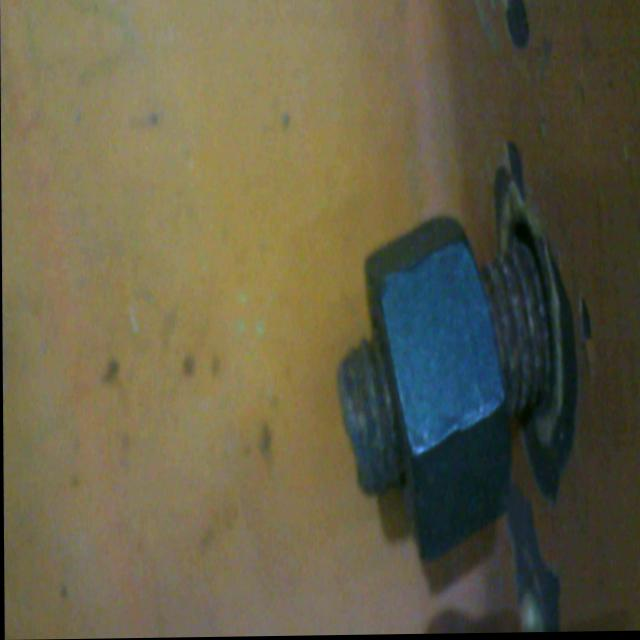Loose bolt: (334, 211, 554, 564)
Rusty bolt: (336, 333, 413, 506), (482, 245, 555, 421)
